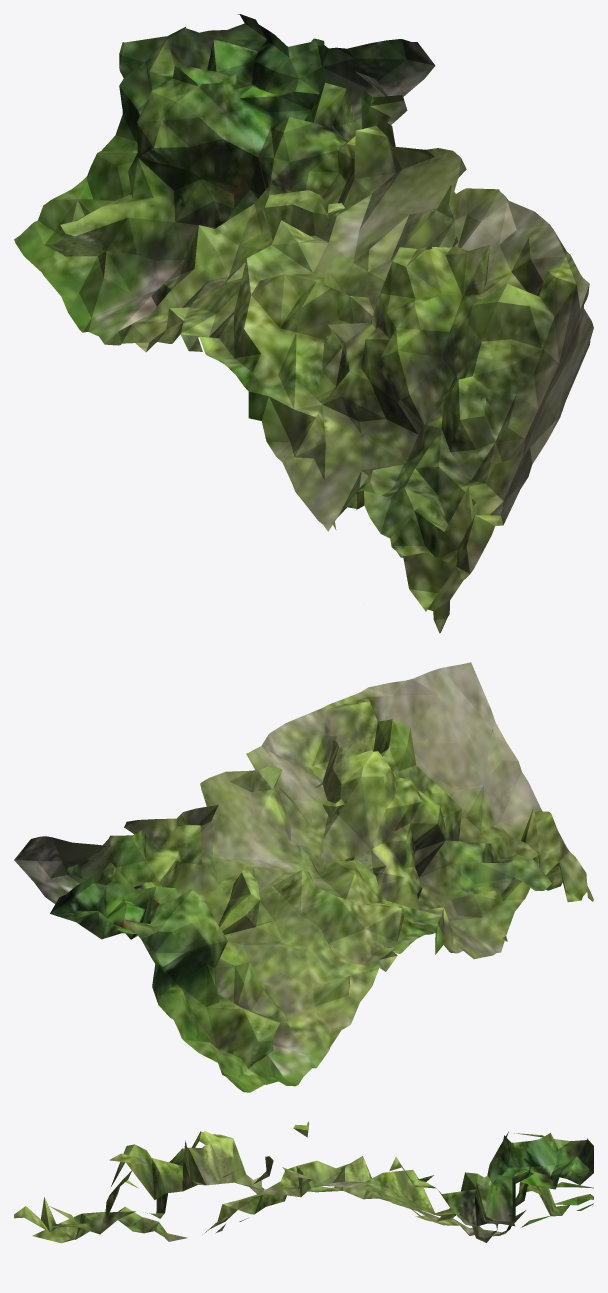
The picture shows the model from 3 angles, top to bottom: view 1: azimuth 30°, elevation 25°; view 2: azimuth 150°, elevation 25°; view 3: azimuth 270°, elevation 25°; orthographic projection. The views are drawn at different scales.
Size of the model in its own units: 12.33 by 9.43 by 26.11.
2 materials, 2 textured.
